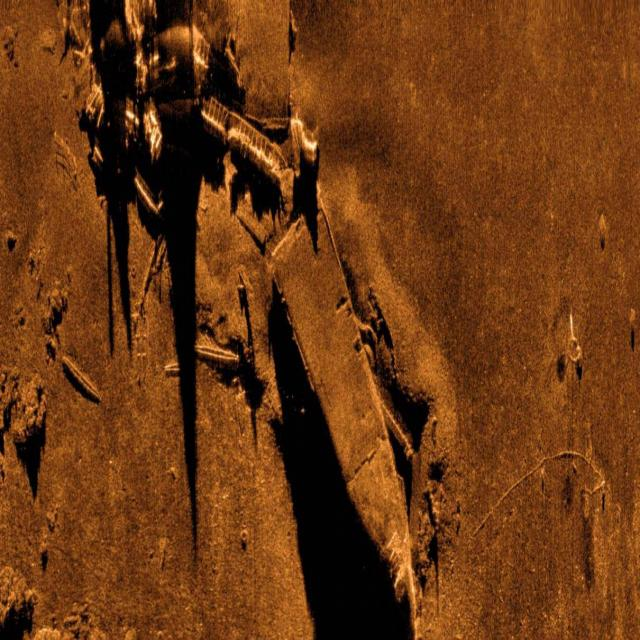ship: (214, 99, 426, 616)
